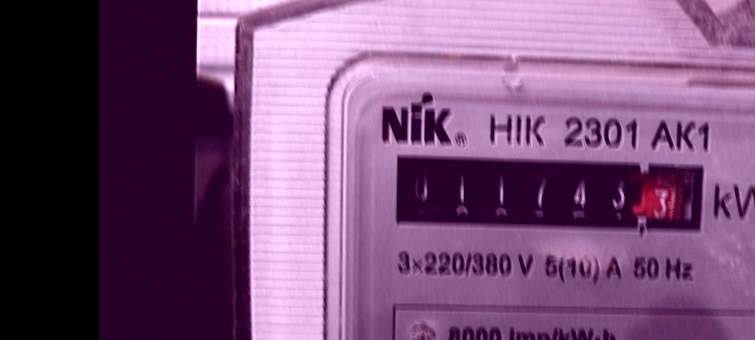0: (412, 168, 432, 205)
1: (495, 171, 511, 205), (458, 170, 469, 204)
3: (609, 176, 629, 212), (653, 189, 672, 222)
4: (572, 175, 590, 210)
7: (533, 174, 552, 208)
screen: (383, 145, 718, 245)
